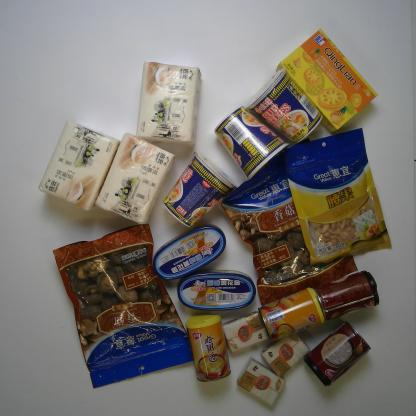Canned Food: (302, 318, 373, 388), (151, 223, 227, 282), (258, 286, 326, 342), (174, 268, 256, 312), (314, 268, 380, 322), (184, 312, 232, 384)
Dessert: (273, 27, 380, 135)
Dried Food: (219, 137, 360, 307), (52, 222, 195, 389)
Dried Fruit: (283, 126, 394, 267)
Instant Noodles: (243, 66, 324, 145), (162, 150, 238, 229), (213, 105, 292, 181)
Tissue: (94, 131, 176, 227), (37, 119, 121, 212), (133, 60, 204, 147), (235, 356, 288, 409), (259, 331, 312, 377), (221, 310, 270, 353)
